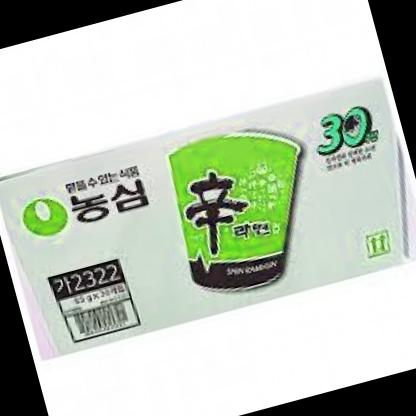Ramen: (148, 113, 328, 304)
